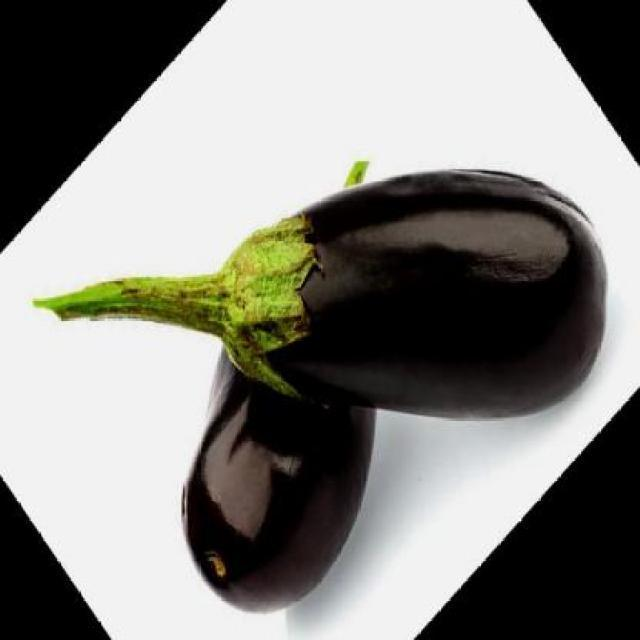eggplant: (26, 157, 640, 430), (166, 148, 410, 622)
